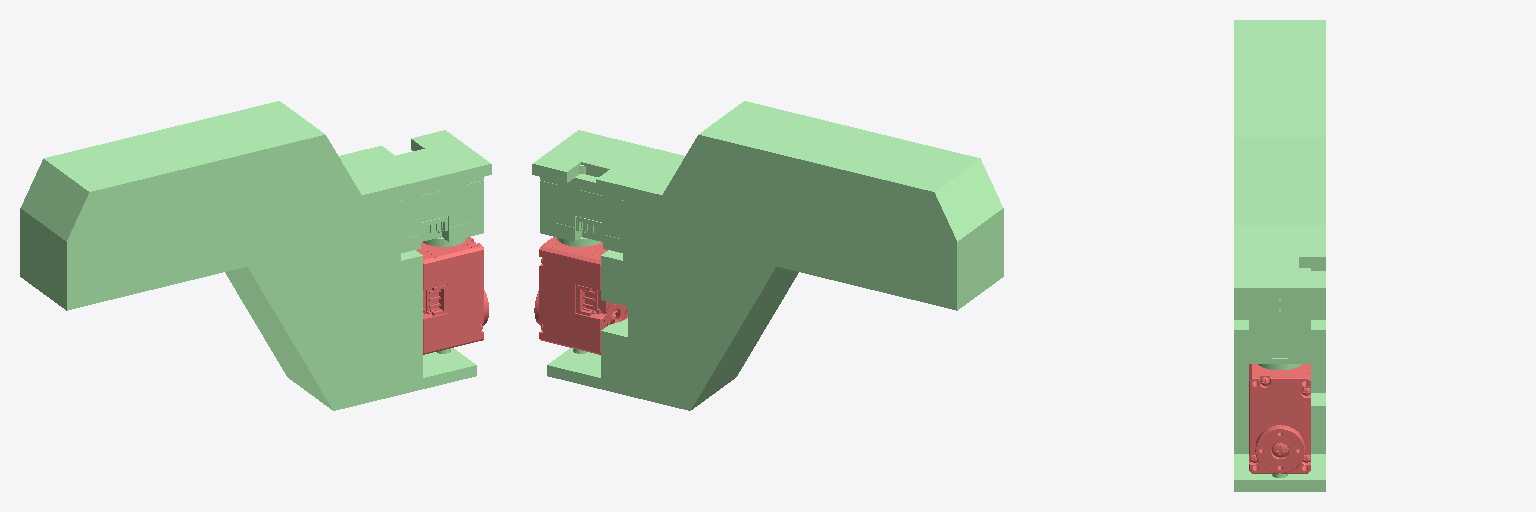
robot.urdf — feeding_utensil:
<?xml version="1.0" ?>
<!-- =================================================================================== -->
<!-- |    This document was autogenerated by xacro from feeding_utensil.xacro          | -->
<!-- |    EDITING THIS FILE BY HAND IS NOT RECOMMENDED                                 | -->
<!-- =================================================================================== -->
<robot name="feeding_utensil">
  <!-- <joint name="${prefix}feeding_utensil_joint" type="fixed">
          <parent link="${parent}"/>
          <child link="${prefix}forkbase"/>
          <origin rpy="0.0 0.0 0.0" xyz="0.0 0.0 0.0"/>
    </joint> -->
  <link name="forkbase">
    <inertial>
      <origin rpy="0 0 0" xyz="0 0 0"/>
      <mass value="0.072775"/>
      <inertia ixx="1.821E-05" ixy="-4.1084E-09" ixz="-1.448E-07" iyy="1.062E-05" iyz="-1.5136E-09" izz="1.0557E-05"/>
    </inertial>
    <visual>
      <origin rpy="0 0 0" xyz="0 0 0"/>
      <geometry>
        <mesh filename="utensil_base.stl"/>
      </geometry>
      <material name="">
        <color rgba="0.75294 1 0.75294 1"/>
      </material>
    </visual>
    <collision>
      <origin rpy="0 0 0" xyz="0 0 0"/>
      <geometry>
        <mesh filename="utensil_base.stl"/>
      </geometry>
    </collision>
  </link>
  <link name="forkpitch">
    <inertial>
      <origin rpy="0 0 0" xyz="0 0 0"/>
      <mass value="0.072775"/>
      <inertia ixx="1.821E-05" ixy="-4.1084E-09" ixz="-1.448E-07" iyy="1.062E-05" iyz="-1.5136E-09" izz="1.0557E-05"/>
    </inertial>
    <visual>
      <origin rpy="0 0 0" xyz="0 0 0"/>
      <geometry>
        <mesh filename="pitch_link.stl"/>
      </geometry>
      <material name="">
        <color rgba="1 0.50196 0.50196 1"/>
      </material>
    </visual>
    <!-- <collision>
      <origin rpy="0 0 0" xyz="0 0 0"/>
      <geometry>
        <mesh filename="pitch_link.stl"/>
      </geometry>
    </collision> -->
  </link>
  <joint name="forkpitch_joint" type="revolute">
    <origin rpy="0 0 0" xyz="0.11 0.0 -0.087"/>
    <parent link="forkbase"/>
    <child link="forkpitch"/>
    <axis xyz="0 0 -1"/>
    <limit effort="0.93" lower="-1.5707963267948966" upper="1.5707963267948966" velocity="8.4"/>
  </joint>
  <link name="forkroll">
    <inertial>
      <origin rpy="0 0 0" xyz="0.011976 -0.00049403 -0.00081409"/>
      <mass value="0.072775"/>
      <inertia ixx="1.821E-05" ixy="-4.1084E-09" ixz="-1.448E-07" iyy="1.062E-05" iyz="-1.5136E-09" izz="1.0557E-05"/>
    </inertial>
    <visual>
      <origin rpy="0 0 0" xyz="0 0 0"/>
      <geometry>
        <mesh filename="roll_link.stl"/>
      </geometry>
      <material name="">
        <color rgba="1 1 1 1"/>
      </material>
    </visual>
    <!-- <collision>
      <origin rpy="0 0 0" xyz="0 0 0"/>
      <geometry>
        <mesh filename="roll_link.stl"/>
      </geometry>
    </collision> -->
  </link>
  <joint name="forkroll_joint" type="continuous">
    <origin rpy="-1.570796 0 0" xyz="0.0151 0.0 0.0095  "/>
    <parent link="forkpitch"/>
    <child link="forkroll"/>
    <axis xyz="1 0 0"/>
    <limit effort="0.93" velocity="8.4"/>
  </joint>
  <link name="feeding_utensil_tip">
    <inertial>
      <origin rpy="0 0 0" xyz="0 0 0"/>
      <mass value="0"/>
      <inertia ixx="0" ixy="0" ixz="0" iyy="0" iyz="0" izz="0"/>
    </inertial>
  </link>
  <joint name="joint_feeding_utensil_tip" type="fixed">
    <parent link="forkroll"/>
    <child link="feeding_utensil_tip"/>
    <axis xyz="0 0 0"/>
    <limit effort="2000" lower="0" upper="0" velocity="1"/>
    <!-- <origin rpy="0 0 0" xyz="0.095 0.007 0.0"/> -->
    <!-- <origin rpy="0 0 0" xyz="0.097 0.00 -0.002"/> -->
    <origin rpy="0 0 0" xyz="0.1 -0.013 -0.002"/>
  </joint>
  <link name="forque_tip">
    <inertial>
      <origin rpy="0 0 0" xyz="0 0 0"/>
      <mass value="0"/>
      <inertia ixx="0" ixy="0" ixz="0" iyy="0" iyz="0" izz="0"/>
    </inertial>
  </link>
  <joint name="joint_fork_tip" type="fixed">
    <parent link="feeding_utensil_tip"/>
    <child link="forque_tip"/>
    <axis xyz="0 0 0"/>
    <limit effort="2000" lower="0" upper="0" velocity="1"/>
    <origin rpy="1.570796 0 1.570796" xyz="0.0 0 0.0"/>
  </joint>
</robot>

--- Facts derived from the render (not from the file) ---
Views: 3 orthographic renders of the robot side by side, from view 1: azimuth 30°, elevation 25°; view 2: azimuth 150°, elevation 25°; view 3: azimuth 270°, elevation 25°.
Robot: feeding_utensil — 5 links, 4 joints (1 revolute, 1 continuous, 2 fixed); root link forkbase; default pose: every joint at zero.
Visible links, largest first — view 1: forkbase, forkpitch; view 2: forkbase, forkpitch; view 3: forkbase, forkpitch.
Boxes of the visible links, box(x1,y1,x2,y2) form: forkbase: box(20, 101, 491, 410); forkpitch: box(416, 237, 488, 354); forkbase: box(532, 101, 1003, 410); forkpitch: box(534, 237, 627, 354); forkbase: box(1234, 20, 1325, 491); forkpitch: box(1249, 364, 1310, 473).
Bounding box of the posed robot: 0.163 × 0.03 × 0.1 m (x, y, z).
Meshes: 3 distinct files referenced, 2 mesh visuals loaded (2 binary STL); not drawn: 1 (reference not matched to a file when rendering).
